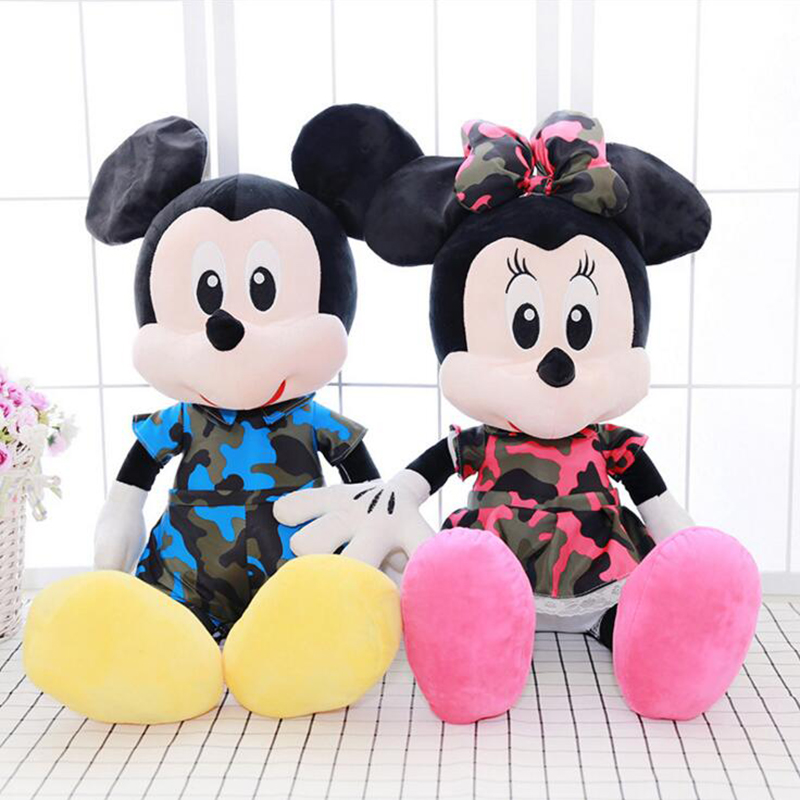Mickey: (83, 101, 415, 417)
